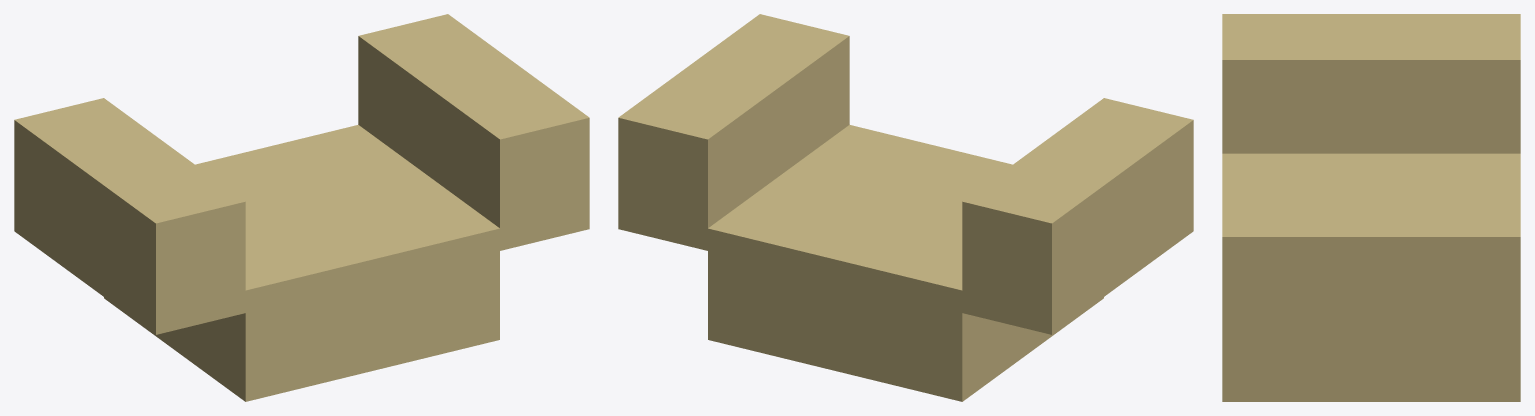
The model's file is ditch1.fbx.
The picture shows the model from 3 angles, left to right: view 1: azimuth 30°, elevation 25°; view 2: azimuth 150°, elevation 25°; view 3: azimuth 270°, elevation 25°; orthographic projection. The views are drawn at different scales.
Visible parts, largest first — view 1: Cube; view 2: Cube; view 3: Cube.
Boxes of the visible parts, x1,y1,x2,y2 form: Cube: [14, 14, 589, 401]; Cube: [618, 14, 1193, 401]; Cube: [1222, 14, 1520, 401].
Bounding box in the file's own units: 12720 × 5612 × 7195.
